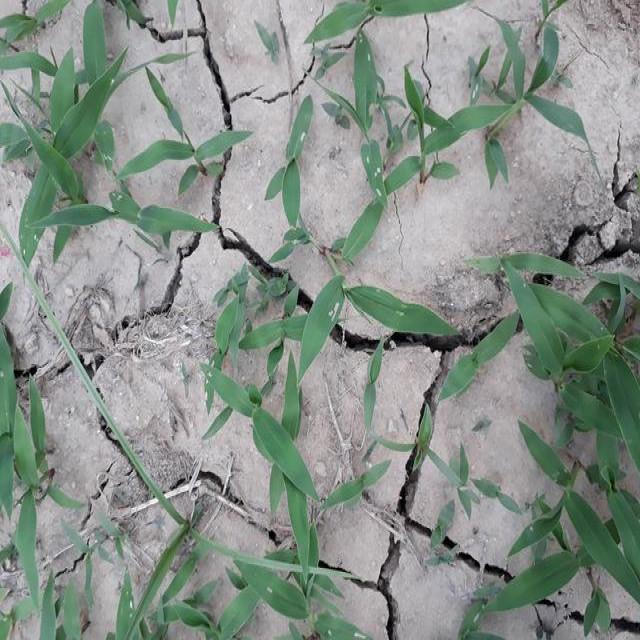weed: (215, 256, 365, 640), (495, 236, 640, 614), (0, 0, 184, 252), (354, 38, 560, 227)
